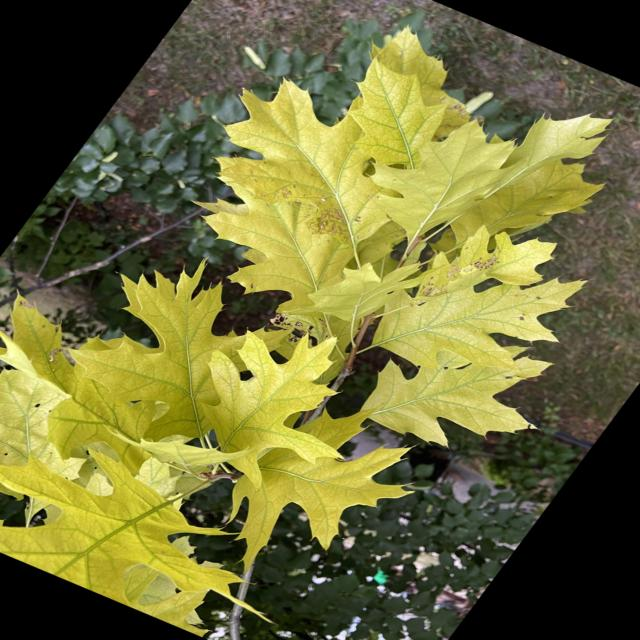Chlorosis: (6, 29, 624, 623)
